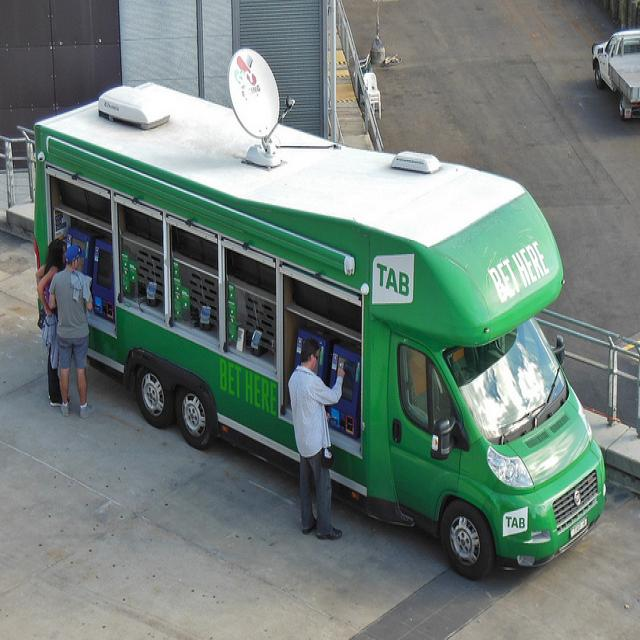Vehicle: (37, 76, 620, 569), (590, 29, 640, 118)
